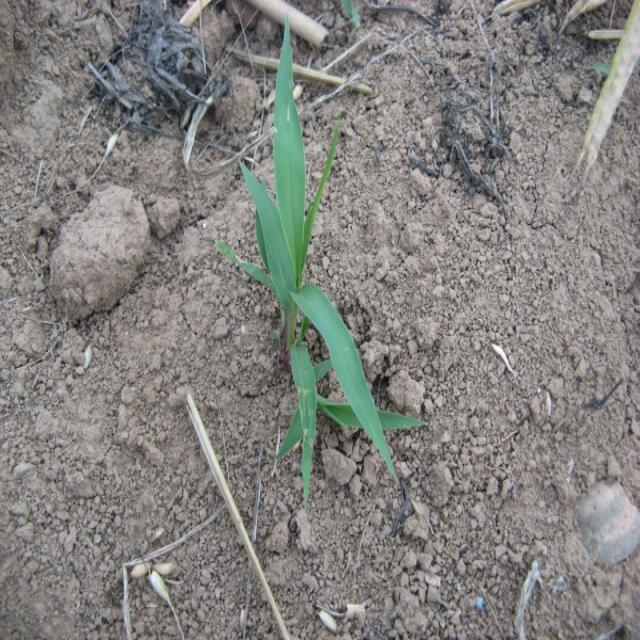bg: (222, 20, 426, 488)
